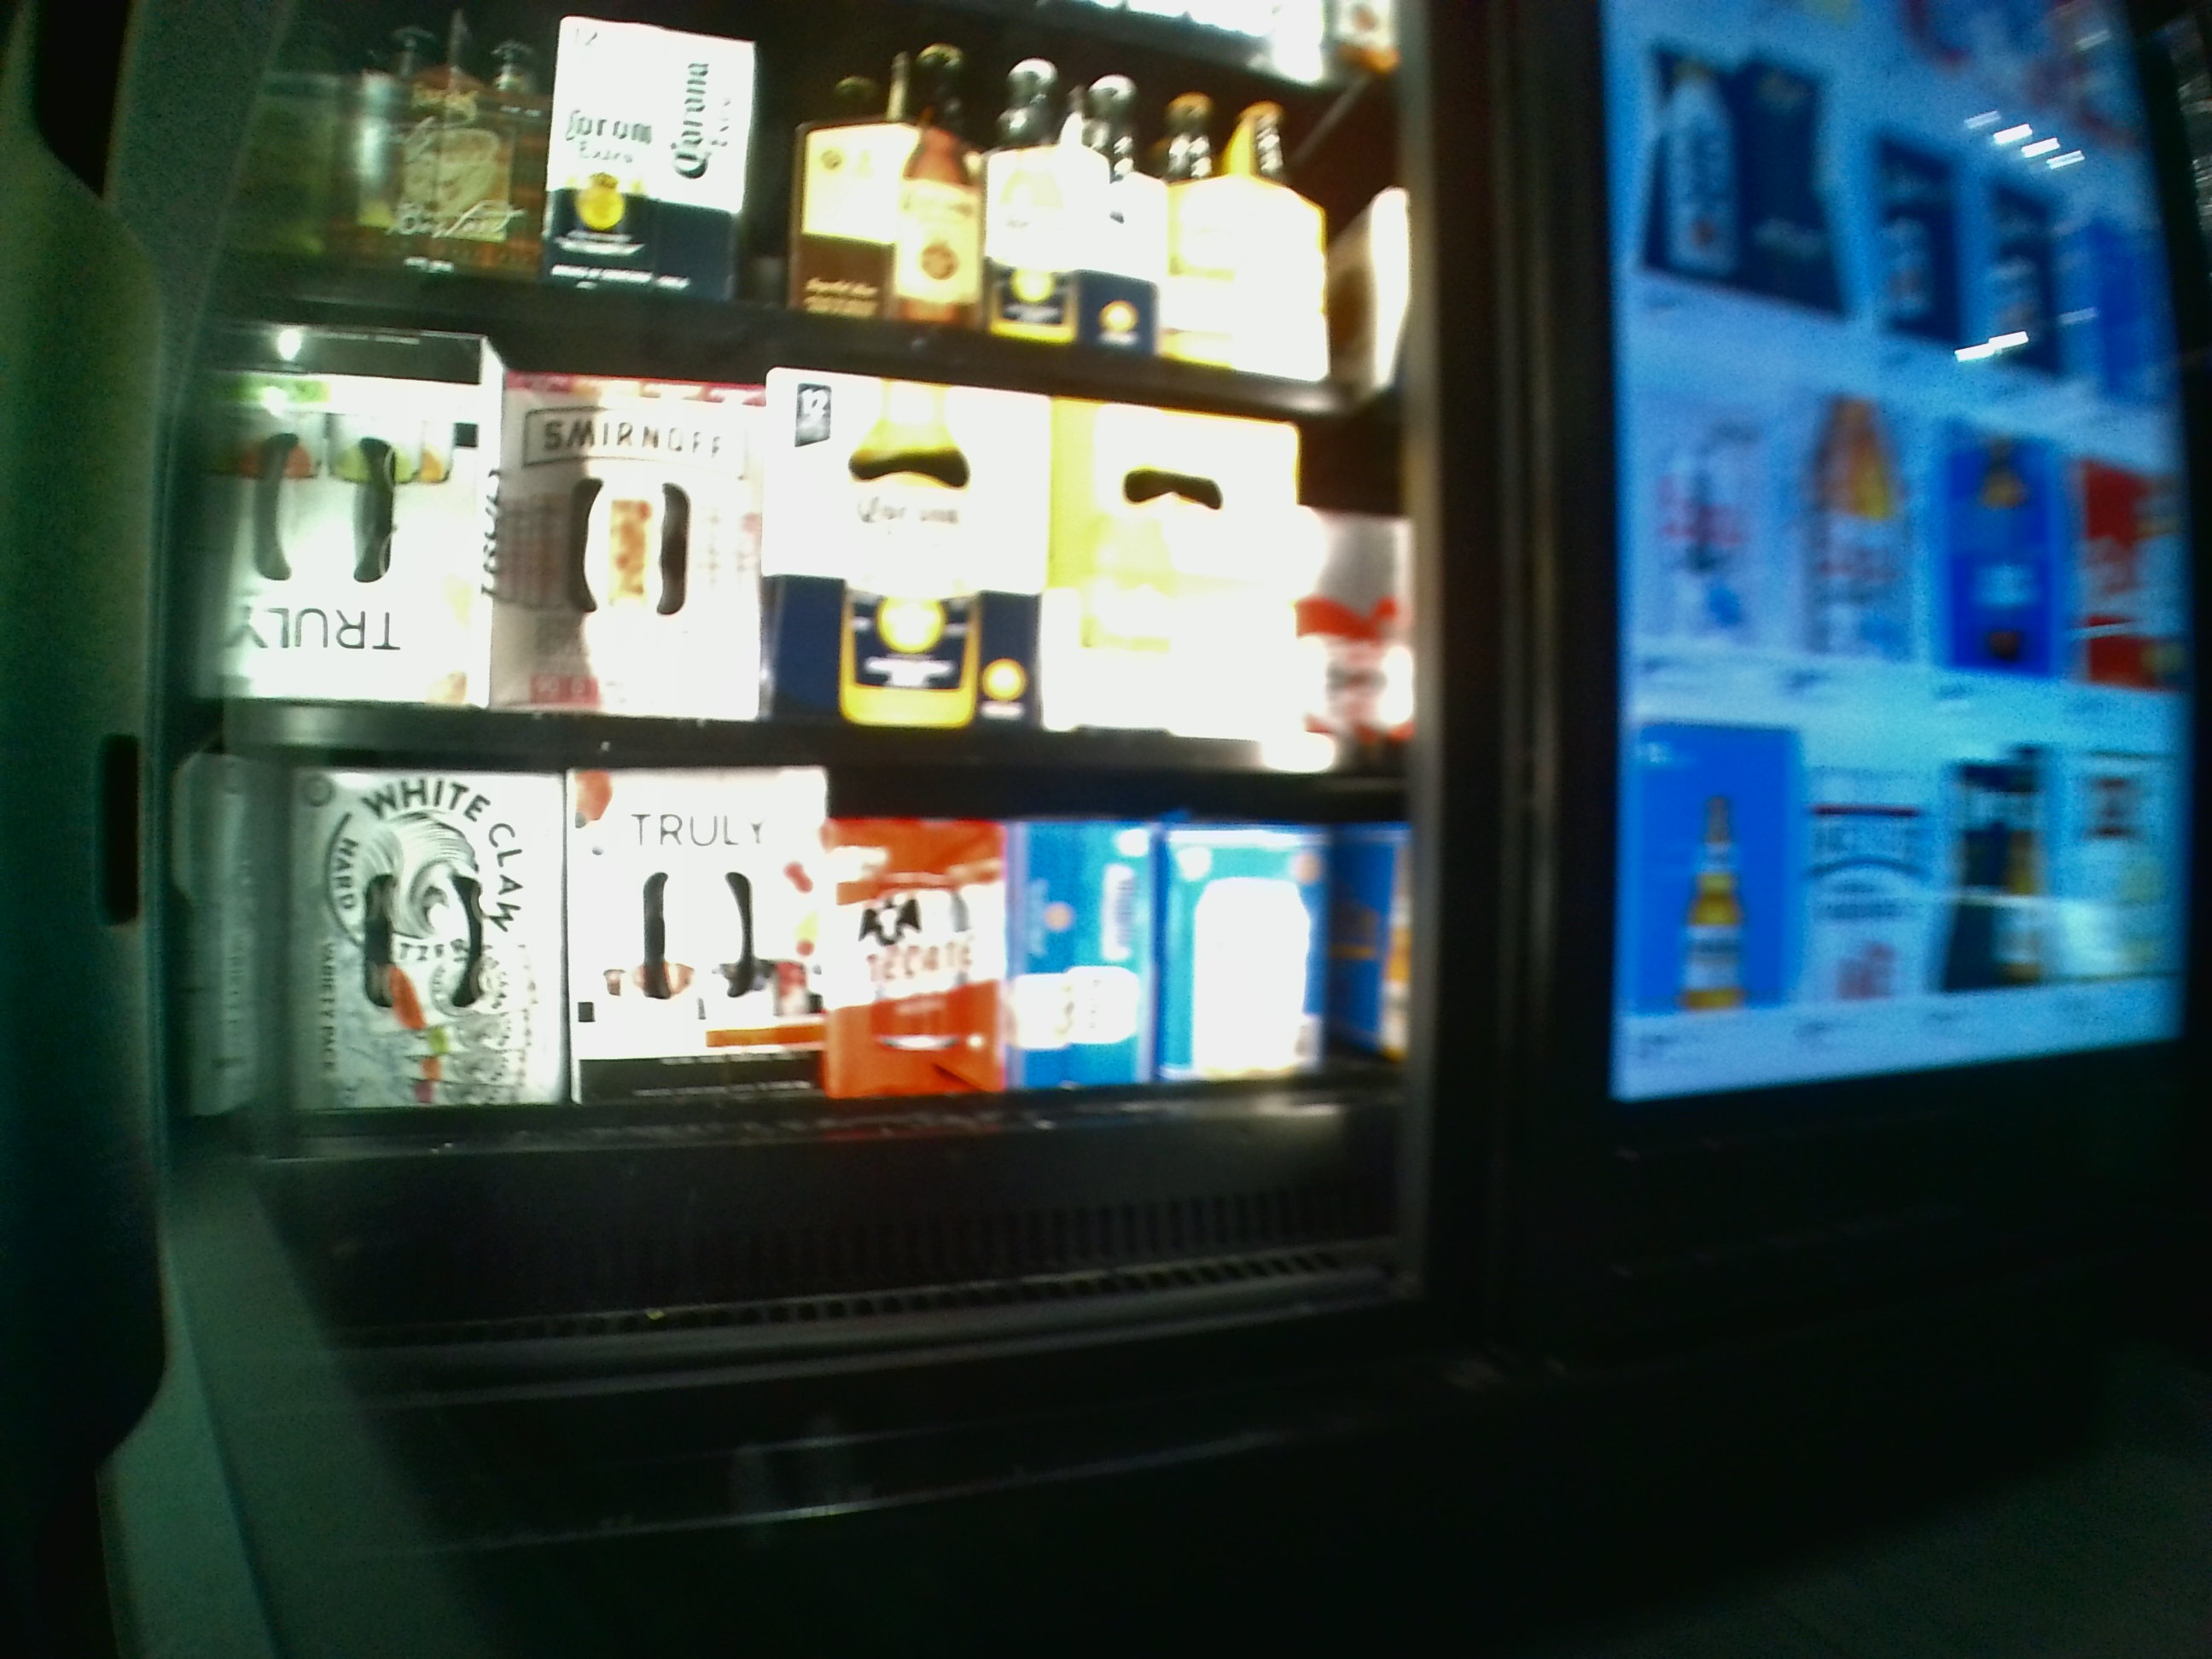shelf: (193, 779, 1411, 1281), (199, 291, 1411, 767)
